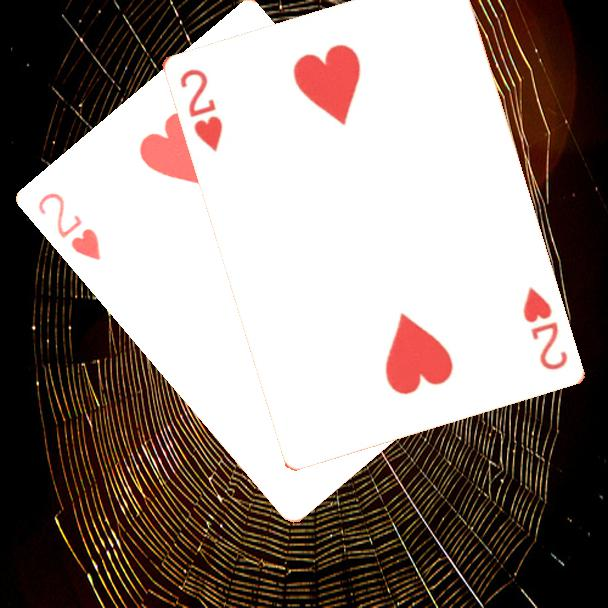h02: (35, 189, 105, 264), (518, 282, 570, 373), (175, 65, 225, 155)
